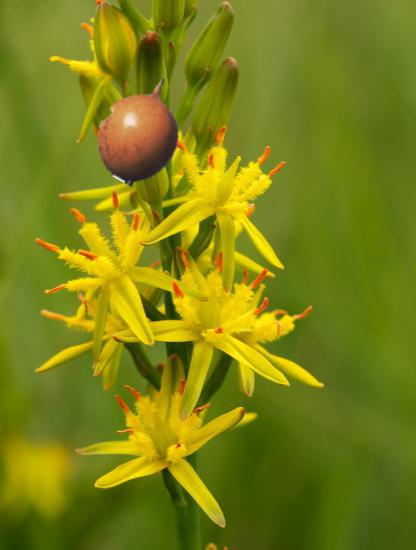Granadilla: (86, 71, 200, 185)
